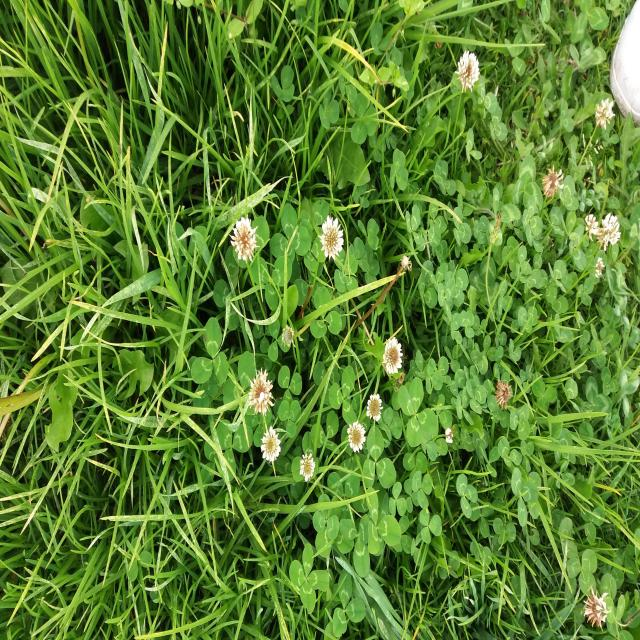Four Leaf Clover: (289, 543, 330, 615), (398, 376, 438, 447), (270, 202, 312, 265), (334, 246, 359, 293)
